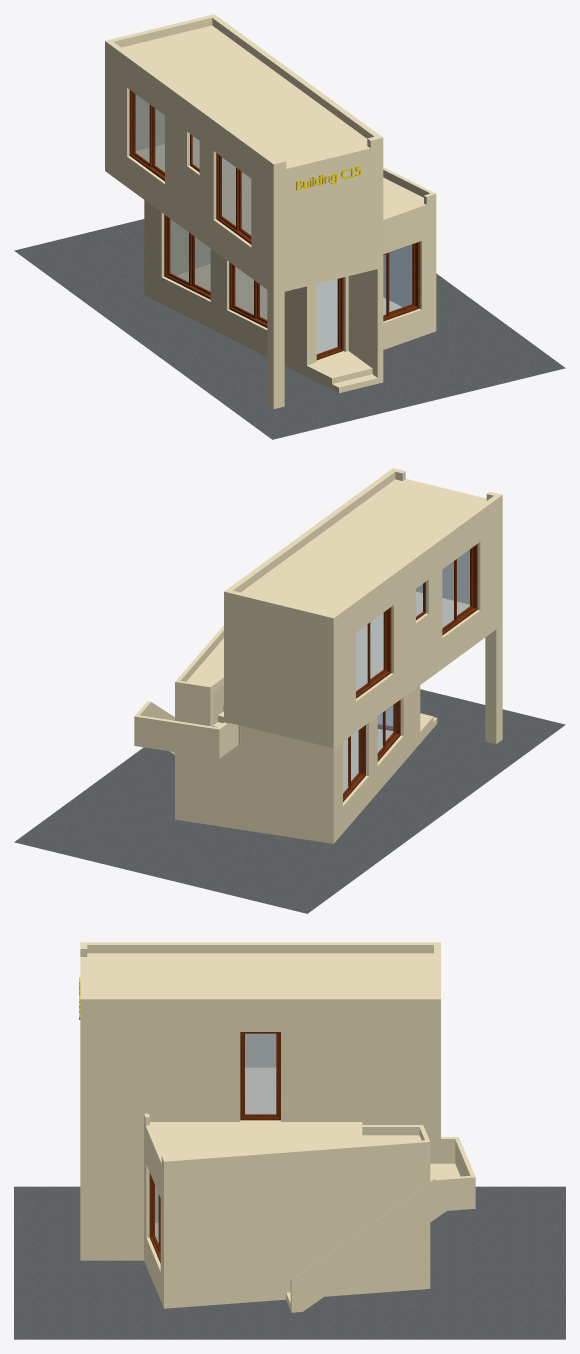
The picture shows the model from 3 angles, top to bottom: view 1: azimuth 30°, elevation 25°; view 2: azimuth 150°, elevation 25°; view 3: azimuth 270°, elevation 25°; orthographic projection. The views are drawn at different scales.
Parts seen in each view (by area): view 1: 17761, Root Node, 16665, 17863, Component#3 (×5), 19305, 18226, 16685, 18092, 17968; view 2: 17761, Root Node, 16665, 17863, Component#3 (×4), 17193, 18226, 17968, 18092; view 3: 17761, Root Node, 16665, 17863, 17193, 18092, 19041, 17968, Component#3.
Boxes of the visible parts, box(x1,y1,x2,y2) form: 17761: box(105, 14, 383, 383); Root Node: box(14, 219, 565, 439); 16665: box(144, 146, 436, 376); 17863: box(121, 25, 367, 165); Component#3 (×5): box(129, 90, 419, 327); 19305: box(316, 277, 343, 360); 18226: box(267, 290, 284, 408); 16685: box(307, 351, 377, 393); 18092: box(383, 179, 423, 216); 17968: box(383, 167, 436, 219); 17761: box(224, 468, 502, 752); Root Node: box(14, 689, 565, 913); 16665: box(175, 638, 420, 843); 17863: box(241, 479, 485, 614); Component#3 (×4): box(343, 544, 477, 801); 17193: box(134, 701, 227, 758); 18226: box(485, 625, 502, 743); 17968: box(175, 625, 223, 694); 18092: box(188, 641, 223, 692); 17761: box(80, 942, 440, 1260); Root Node: box(14, 1186, 565, 1339); 16665: box(144, 1084, 430, 1308); 17863: box(87, 953, 433, 996); 17193: box(290, 1137, 475, 1312); 18092: box(151, 1122, 419, 1159); 19041: box(240, 1032, 280, 1120); 17968: box(144, 1113, 430, 1169); Component#3: box(149, 1173, 160, 1262).
Bounding box in the file's own units: 8.03 × 6.4 × 12.25.
647 materials, 75 textured.
